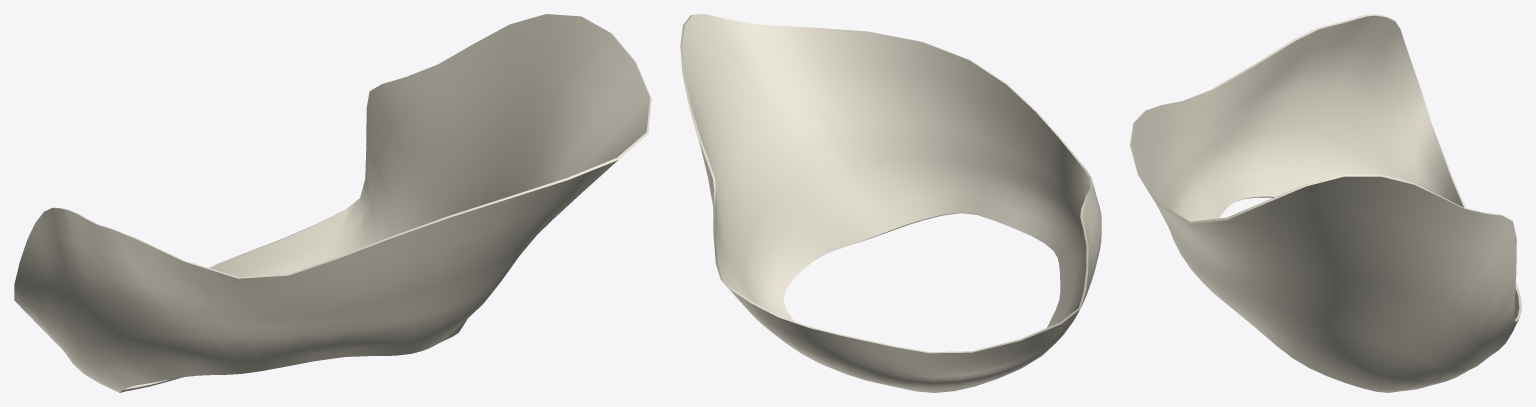
3 renders of one model, left to right at view 1: azimuth 30°, elevation 25°; view 2: azimuth 150°, elevation 25°; view 3: azimuth 270°, elevation 25°, orthographic. The views are drawn at different scales.
Parts seen in each view (by area): view 1: ZA_ce456d2708bfa73f; view 2: ZA_ce456d2708bfa73f; view 3: ZA_ce456d2708bfa73f.
Boxes of the visible parts, x1,y1,x2,y2 form: ZA_ce456d2708bfa73f: [14, 14, 651, 392]; ZA_ce456d2708bfa73f: [680, 14, 1101, 392]; ZA_ce456d2708bfa73f: [1130, 14, 1521, 392].
Size of the model in its own units: 0.0229 by 0.0129 by 0.0147.
